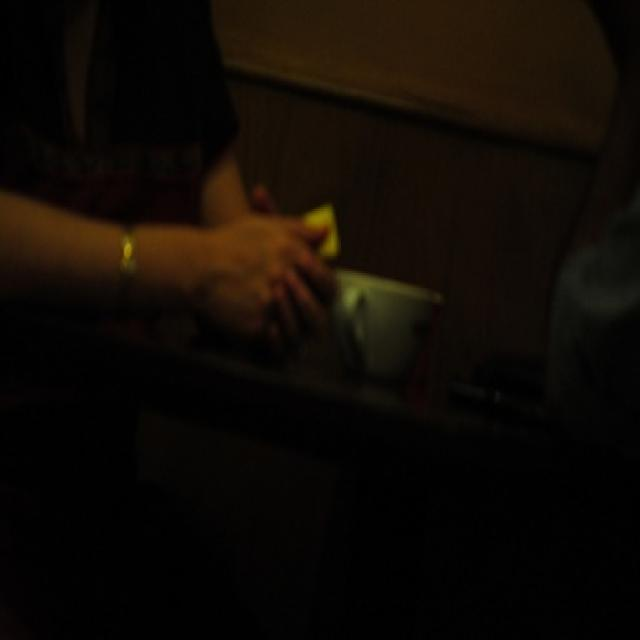Cup: (352, 251, 448, 414)
People: (0, 4, 283, 401)
Table: (0, 297, 640, 640)
